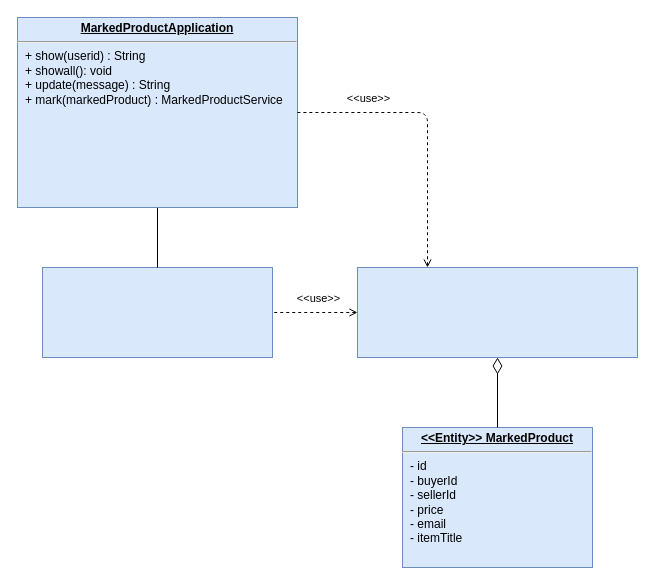
The diagram is 655 pixels wide and 585 high, and some of its shapes have lost their labels. Each missing label, with the box of its shape:
<<Interface>> <<Repository>> MarkedProductRepository: (356, 266, 638, 358)
<<Service>> UpdateController - updateProduct() : void: (42, 266, 272, 358)
